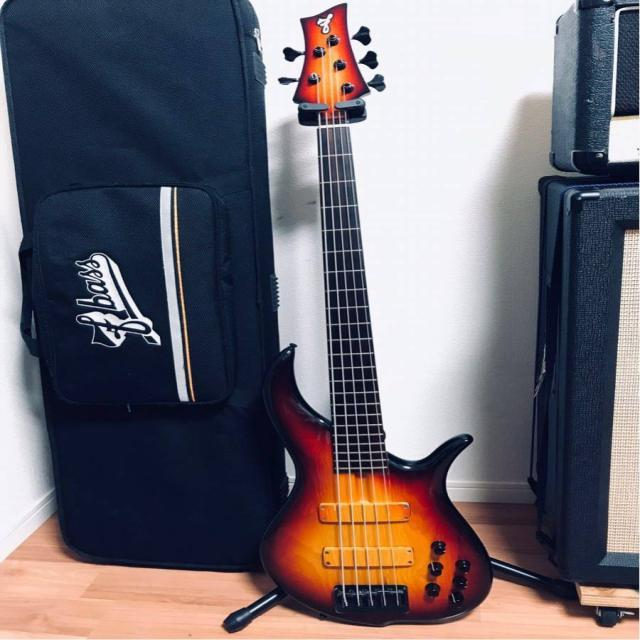bass: (261, 4, 491, 624)
